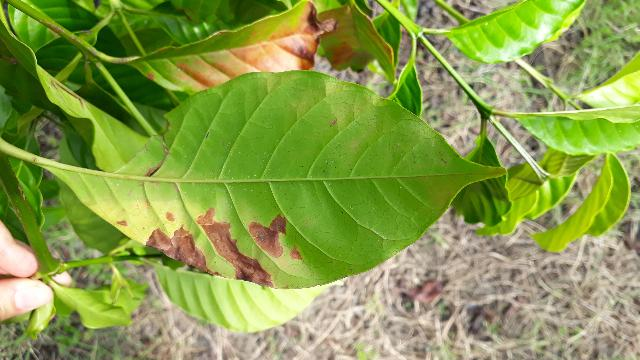red_spider_mite: (52, 71, 505, 288)
